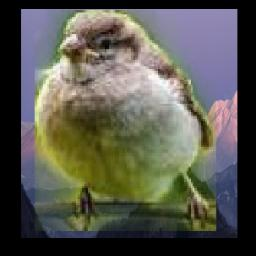Sparrow: (35, 11, 217, 232)
